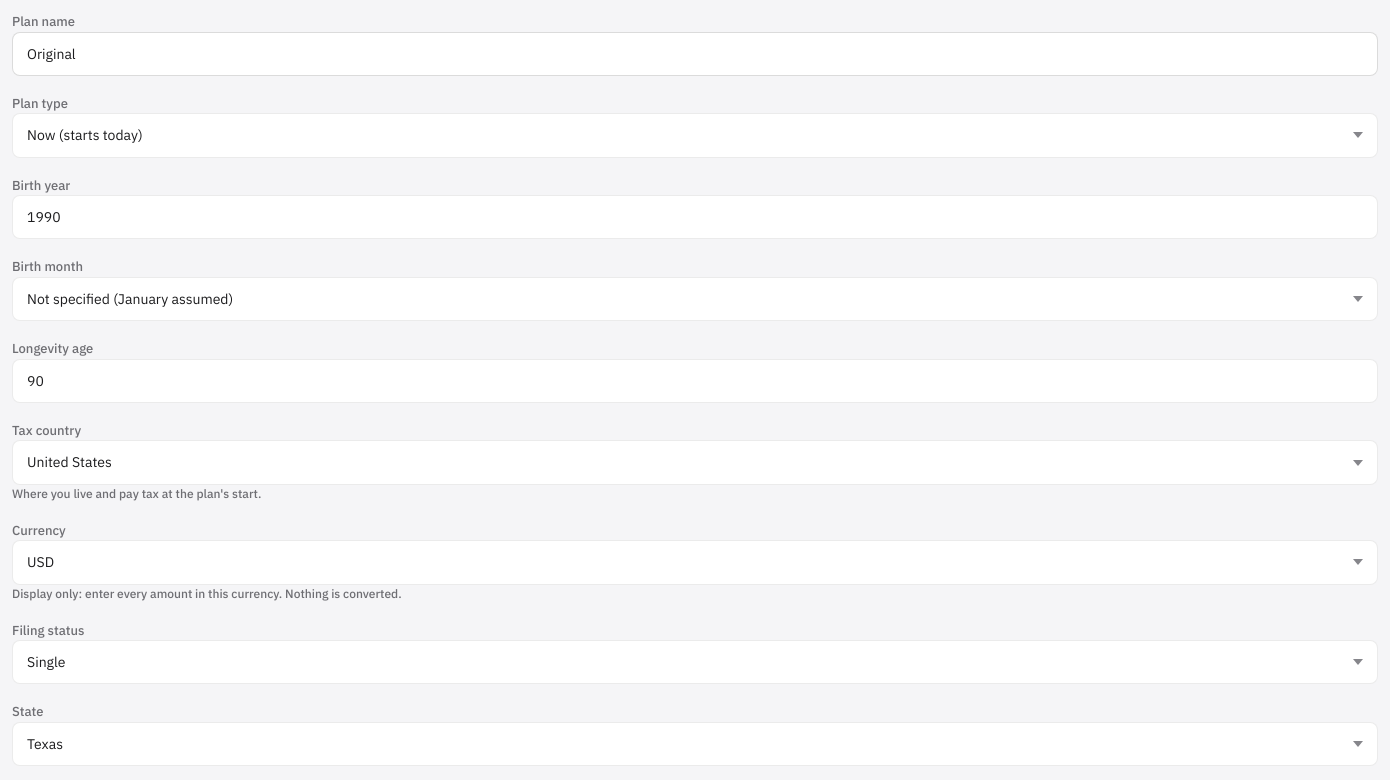
a stale tab's state edit and untouched blurs preserve newer saved name and birth year
The image size is (1390, 780).
Select "Florida" in the dropdown labelled "State". click: [695, 744]
box: [12,722,1378,766]
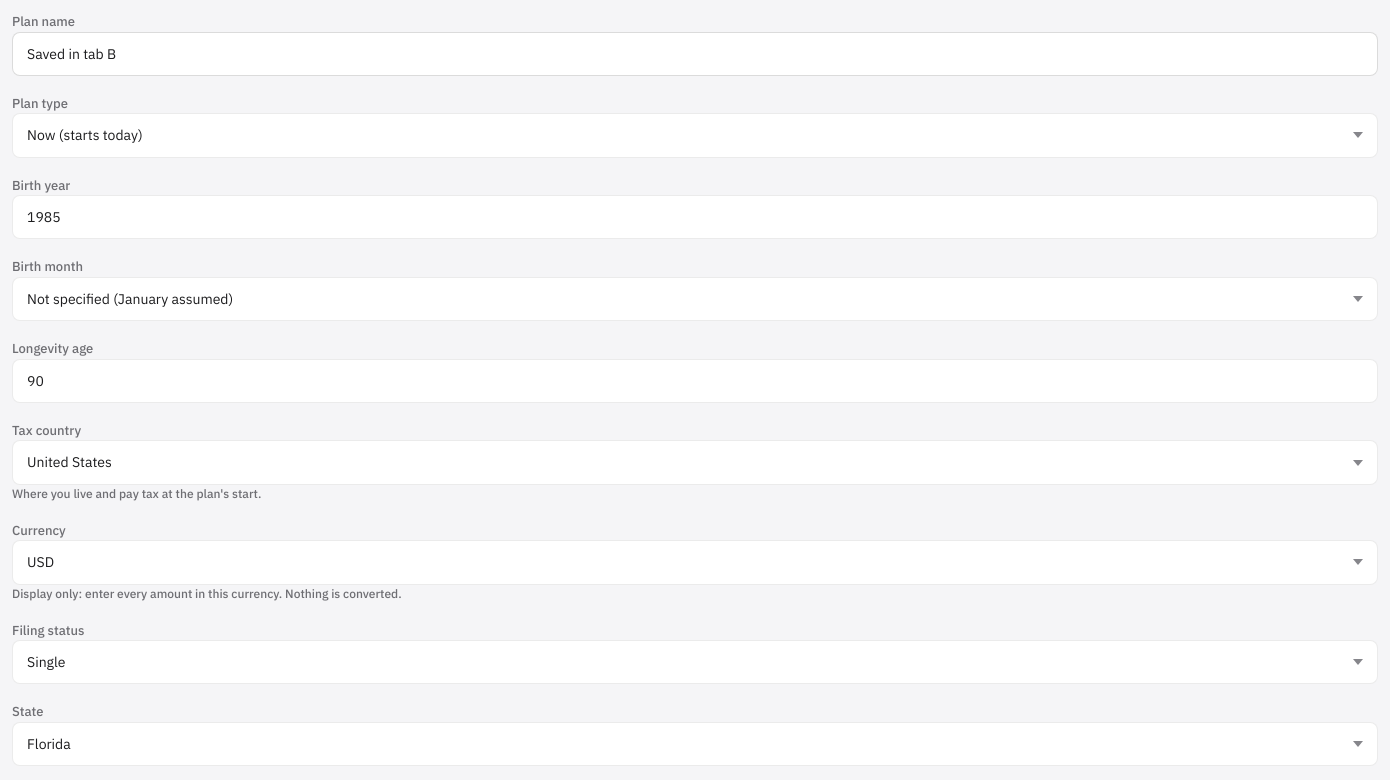
Result: the number field labelled "Birth year" holds "1985" at [12,195,1378,239]
